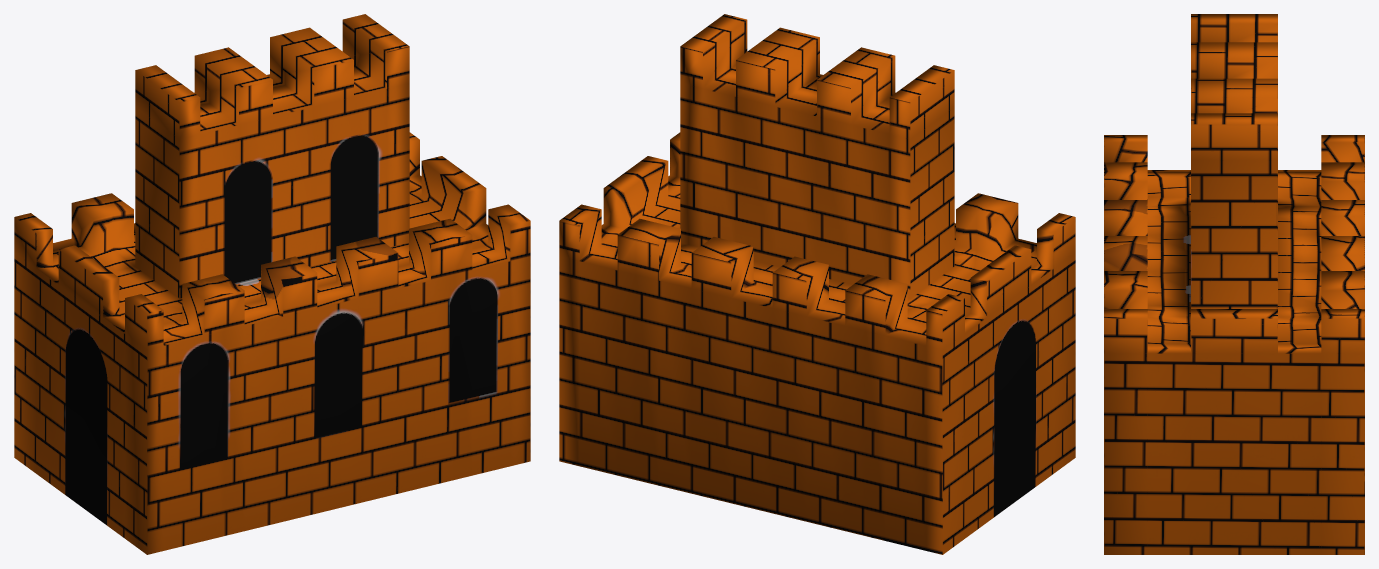
Rendered from Castle.fbx.
3 renders of one model, left to right at view 1: azimuth 30°, elevation 25°; view 2: azimuth 150°, elevation 25°; view 3: azimuth 270°, elevation 25°, orthographic.
Visible parts, largest first — view 1: Castle; view 2: Castle; view 3: Castle.
Part boxes in pixels (x1,y1,x2,y2): Castle: (14, 14, 530, 554); Castle: (559, 14, 1075, 554); Castle: (1104, 14, 1364, 554).
Size of the model in its own units: 500 by 500 by 300.
Materials: 1 (1 with a texture image).
